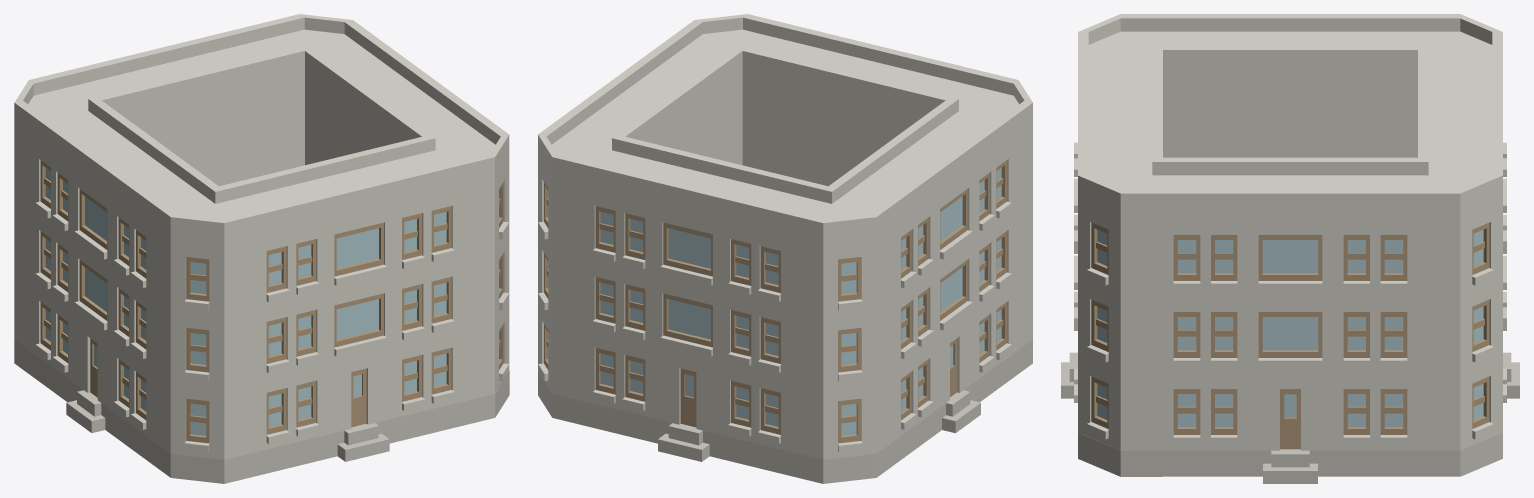
File: Building 3.fbx
3 renders of one model, left to right at view 1: azimuth 30°, elevation 25°; view 2: azimuth 150°, elevation 25°; view 3: azimuth 270°, elevation 25°, orthographic. The views are drawn at different scales.
Visible parts, largest first — view 1: Building 3; view 2: Building 3; view 3: Building 3.
Part boxes in pixels (<box>): Building 3: <box>14,14,509,483</box>; Building 3: <box>538,14,1032,483</box>; Building 3: <box>1061,14,1519,483</box>.
Bounding box in the file's own units: 540 × 368 × 540.
